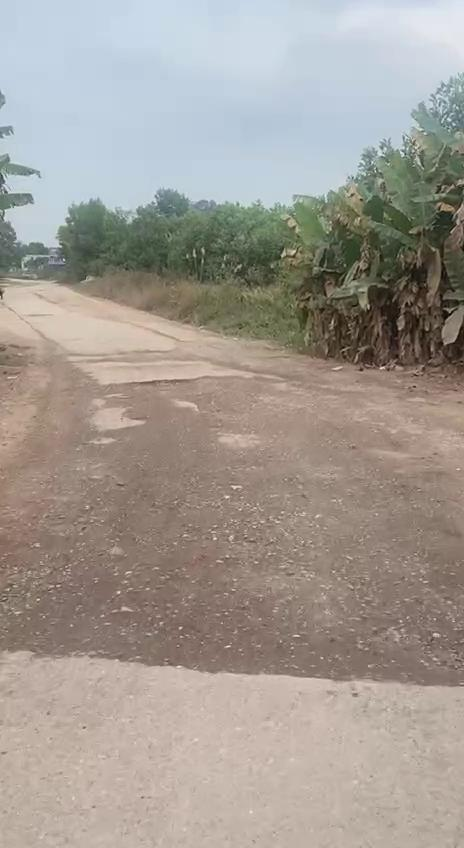pothole: (348, 606, 464, 682), (109, 370, 196, 406)
